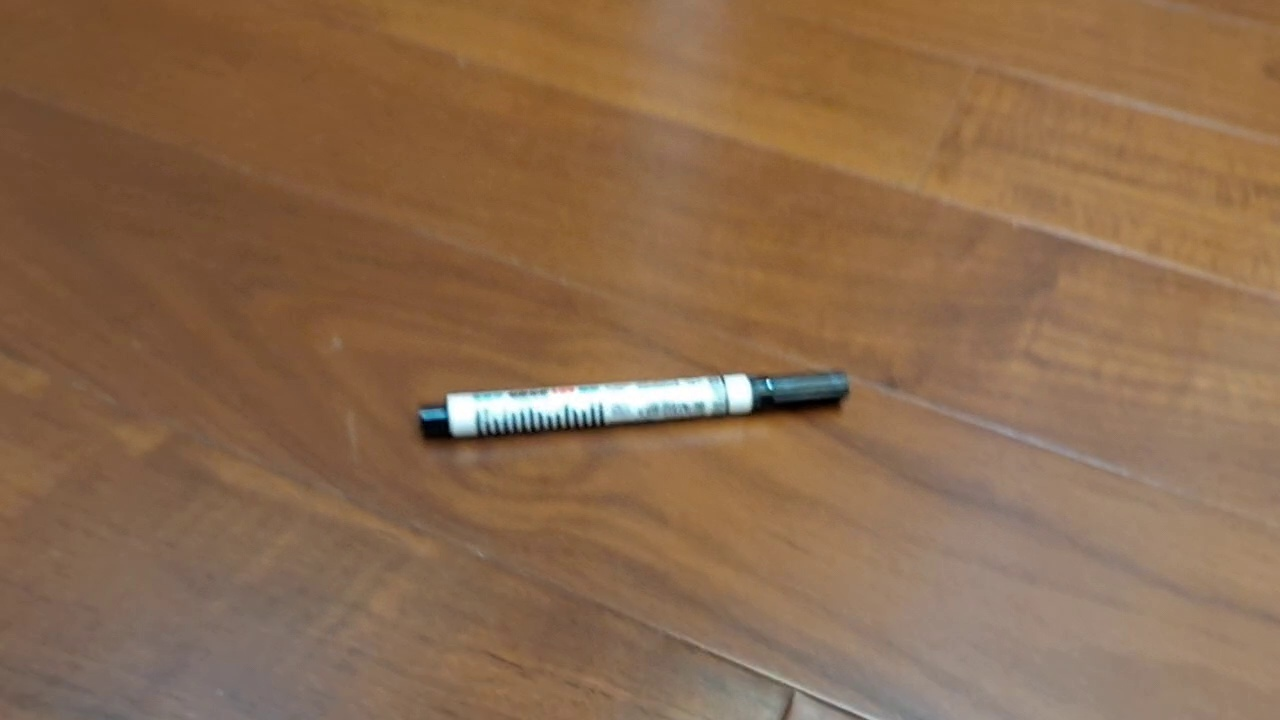pen: (418, 369, 851, 441)
